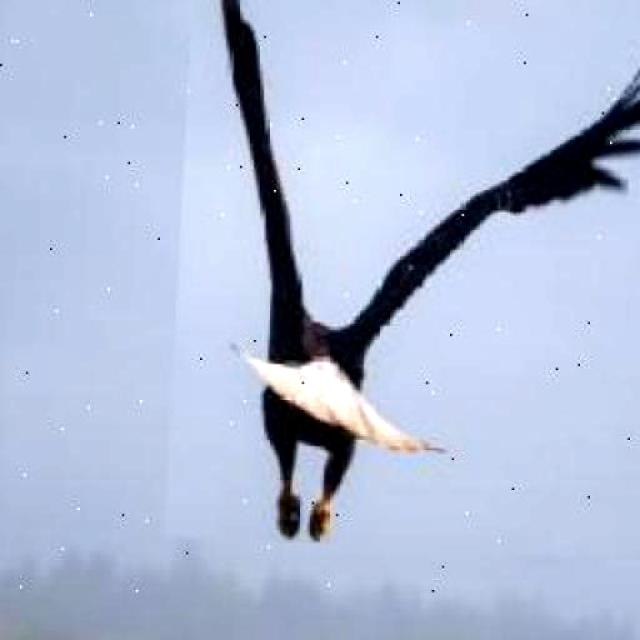airplane: (165, 0, 640, 562)
